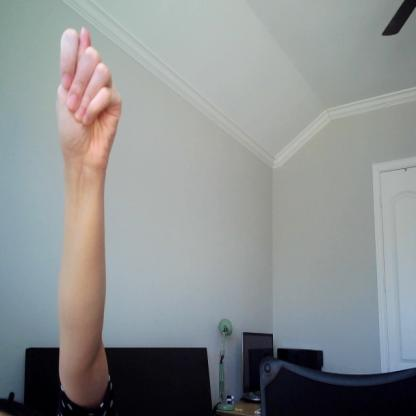T: (55, 19, 127, 170)
